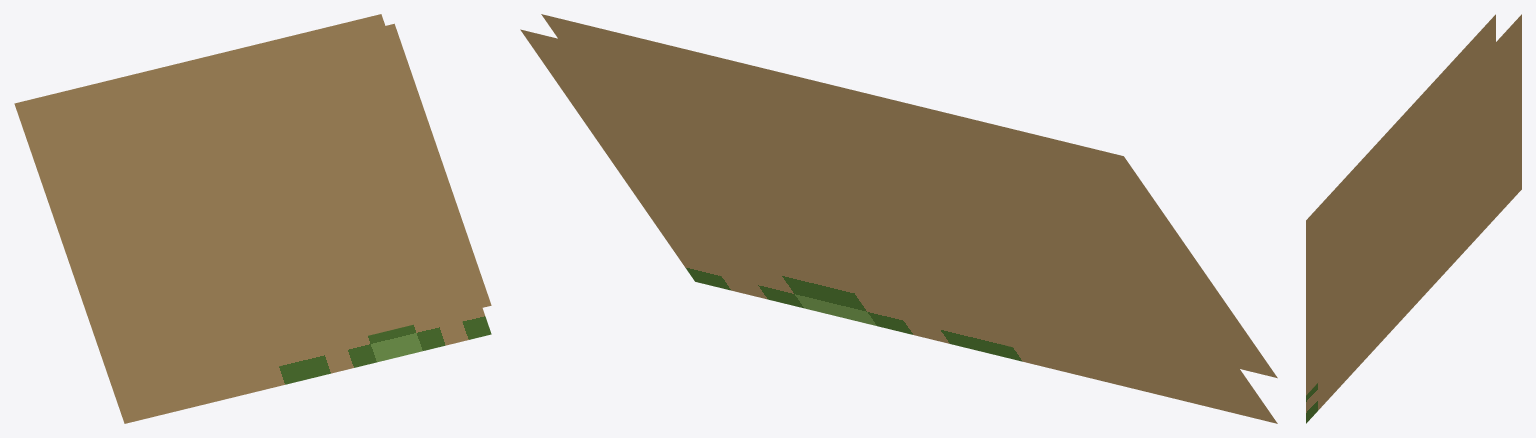
The picture shows the model from 3 angles, left to right: view 1: azimuth 30°, elevation 25°; view 2: azimuth 150°, elevation 25°; view 3: azimuth 270°, elevation 25°; orthographic projection. The views are drawn at different scales.
Bounding box in the file's own units: 1 × 0.624 × 0.5205.
1 material, 1 textured.
